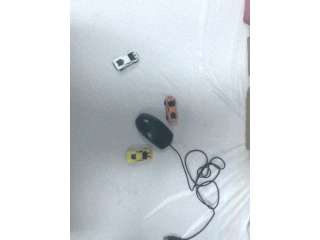mouse: (136, 112, 173, 150)
toy_car: (112, 51, 140, 70), (125, 148, 153, 164), (165, 96, 178, 123)
